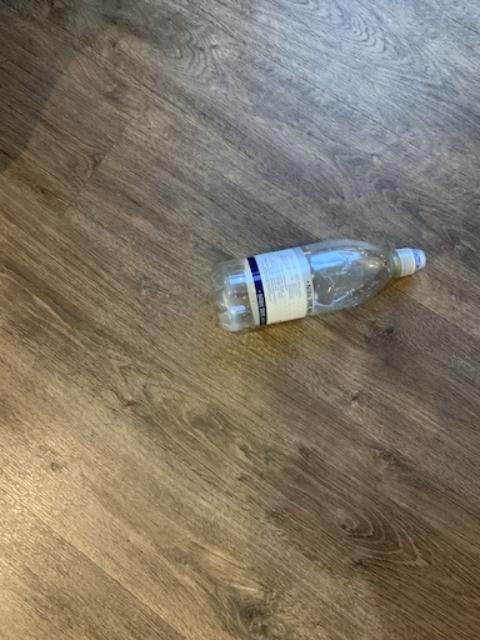plastic: (211, 239, 422, 329)
